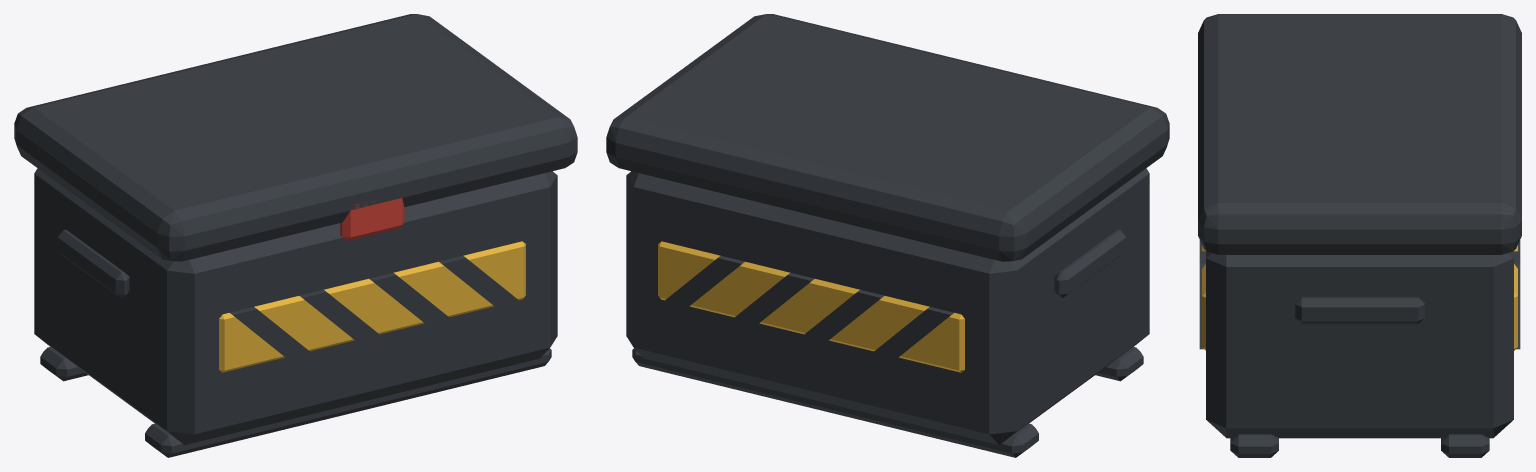
File: ammo_crate.obj
3 renders of one model, left to right at view 1: azimuth 30°, elevation 25°; view 2: azimuth 150°, elevation 25°; view 3: azimuth 270°, elevation 25°, orthographic.
Parts seen in each view (by area): view 1: ammo_crate; view 2: ammo_crate; view 3: ammo_crate.
Boxes of the visible parts, x1,y1,x2,y2 form: ammo_crate: (14, 14, 577, 457); ammo_crate: (606, 14, 1169, 457); ammo_crate: (1198, 14, 1521, 457).
Size of the model in its own units: 0.6 by 0.35 by 0.4.
